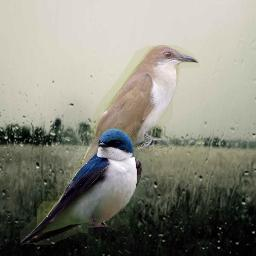Cuckoo: (37, 45, 200, 235)
Swallow: (20, 128, 142, 245)
